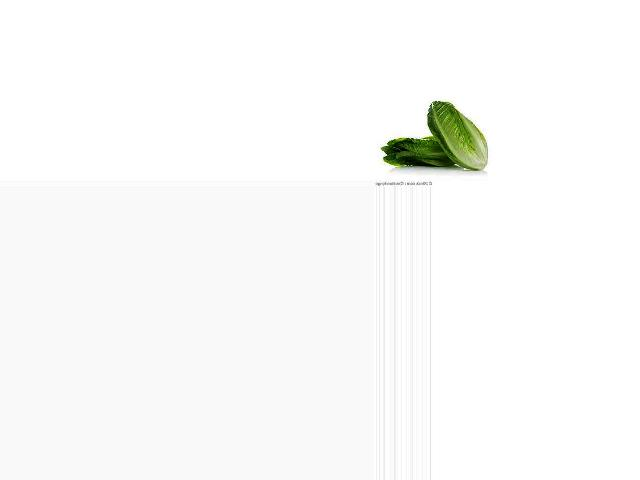lettuce: (382, 129, 454, 176)
